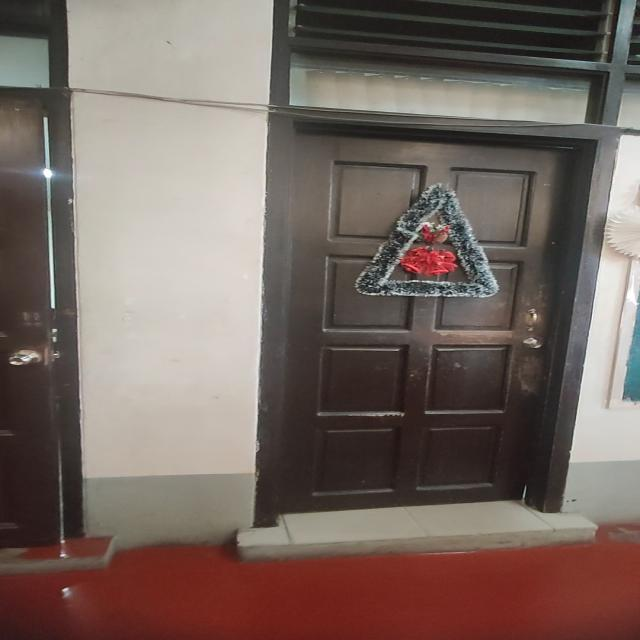door: (272, 128, 585, 535)
